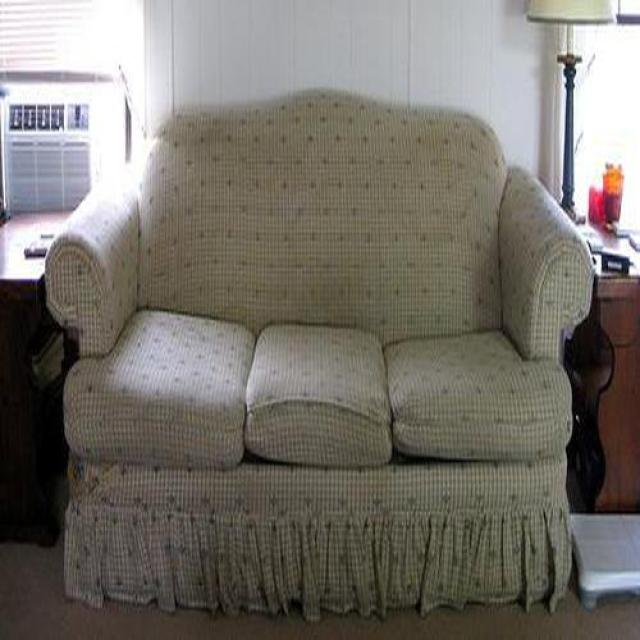sofa: (42, 88, 595, 625)
